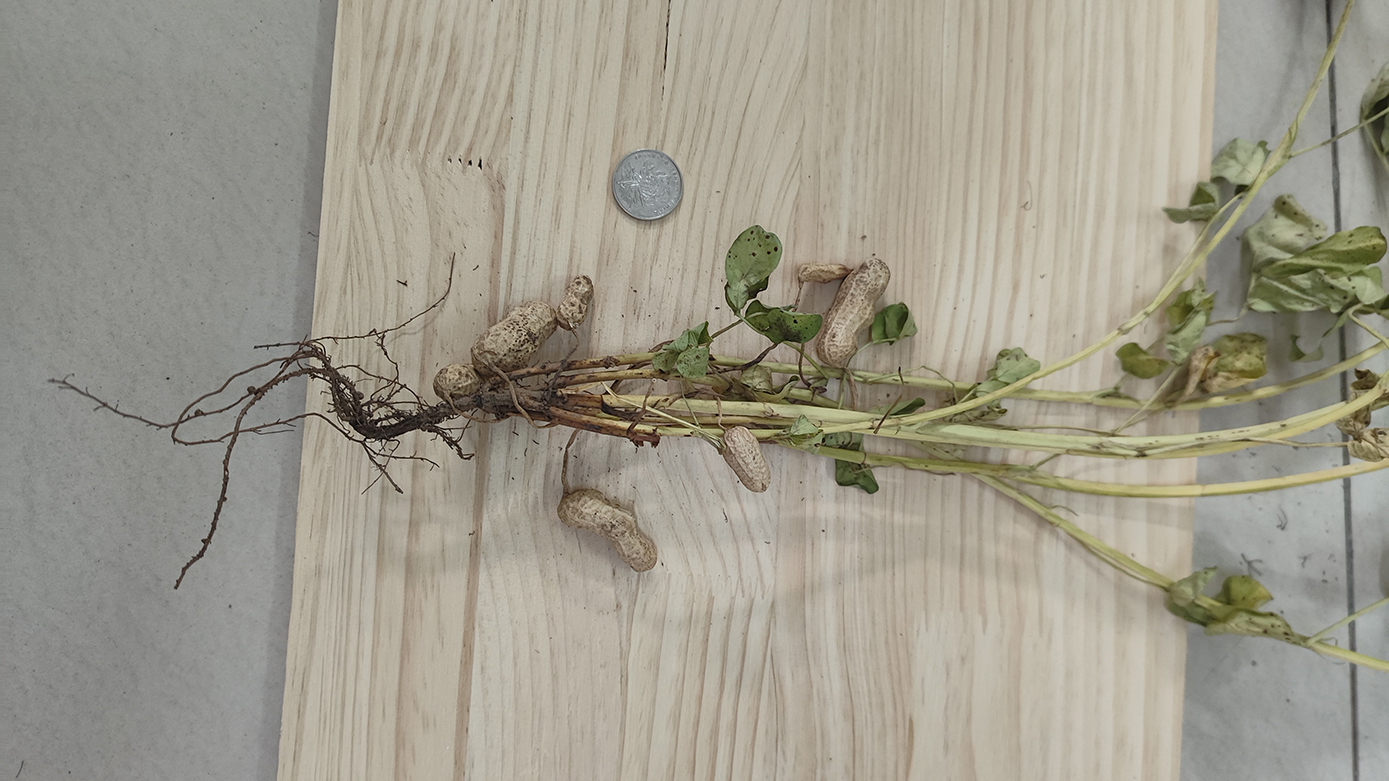h: (556, 486, 656, 571), (815, 259, 891, 367), (470, 299, 555, 377), (721, 426, 773, 494), (557, 277, 594, 330), (433, 362, 475, 395)
l: (798, 261, 847, 284)
